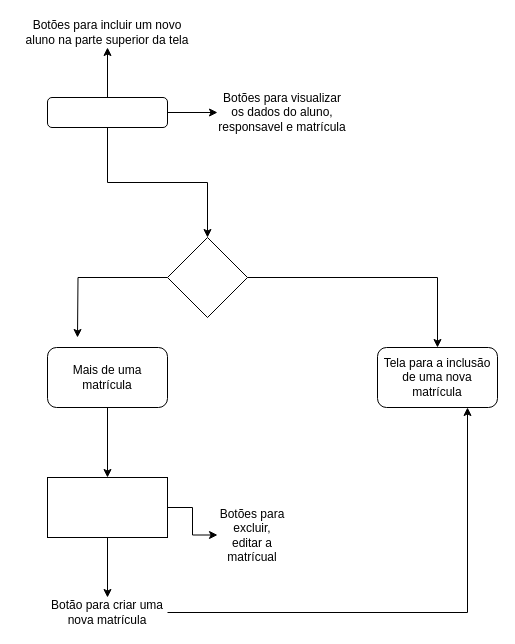
Image size: 515x644. Some labels were removed from this diagram. Here are the shapes that lost their labels. From the top down, the box of each, then its label:
(46, 96, 168, 128): Home alunos
(46, 476, 168, 538): Lista de matrícula
